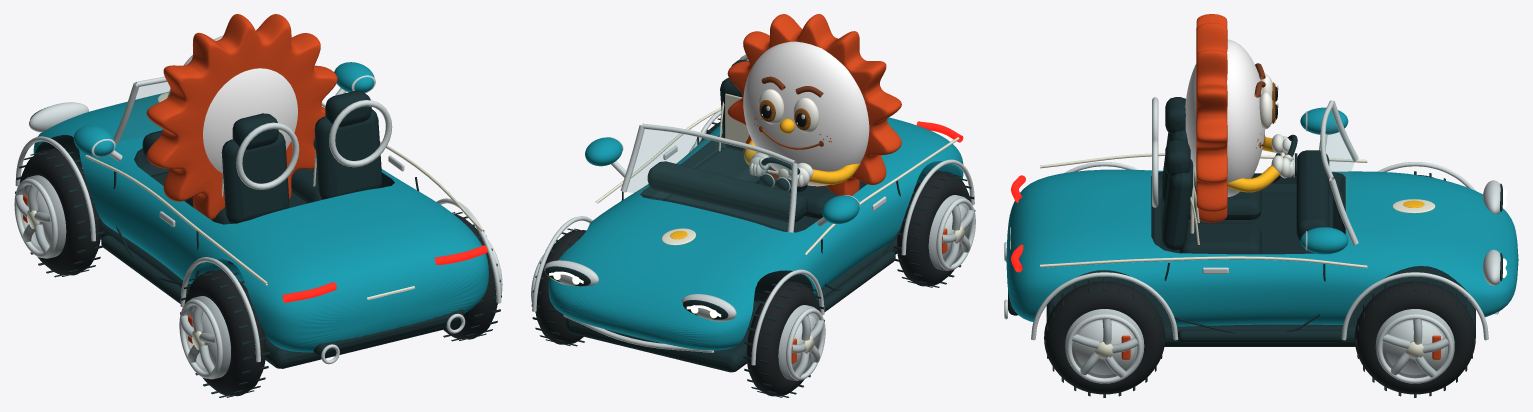
File: sunny-roadster-v4.glb
The picture shows the model from 3 angles, left to right: view 1: azimuth 30°, elevation 25°; view 2: azimuth 150°, elevation 25°; view 3: azimuth 270°, elevation 25°; orthographic projection. The views are drawn at different scales.
Visible parts, largest first — view 1: Continuous sculpted body shell, Organic fourteen ray corona, Sculpted Sunny body, Rounded performance tire.001, Rounded performance tire, Sport seat back, Sport seat back.001, Dark chassis, Rear diffuser, Rounded performance tire.003, Curved transparent windshield, Side skirt (+22 smaller); view 2: Continuous sculpted body shell, Sculpted Sunny body, Curved transparent windshield, Organic fourteen ray corona, Dashboard, Rounded performance tire, Rounded performance tire.001, Dark chassis, Rounded performance tire.002, Cockpit carpet, Sport seat cushion.001, Side skirt (+25 smaller); view 3: Continuous sculpted body shell, Organic fourteen ray corona, Rounded performance tire.002, Rounded performance tire.003, Sculpted Sunny body, Dark chassis, Cockpit carpet, Dashboard, Sport seat cushion.001, Side skirt.001, Sport seat back.001, Curved transparent windshield (+22 smaller).
Part boxes in pixels (bbox=[...]): Continuous sculpted body shell: bbox=[33, 92, 488, 352]; Organic fourteen ray corona: bbox=[146, 14, 337, 219]; Sculpted Sunny body: bbox=[167, 35, 297, 173]; Rounded performance tire.001: bbox=[184, 270, 265, 396]; Rounded performance tire: bbox=[19, 149, 100, 275]; Sport seat back: bbox=[221, 131, 289, 223]; Sport seat back.001: bbox=[314, 109, 382, 199]; Dark chassis: bbox=[100, 219, 461, 368]; Rear diffuser: bbox=[313, 309, 463, 355]; Rounded performance tire.003: bbox=[443, 214, 497, 339]; Curved transparent windshield: bbox=[120, 82, 169, 140]; Side skirt: bbox=[101, 235, 187, 303]; Continuous sculpted body shell: bbox=[548, 117, 963, 350]; Sculpted Sunny body: bbox=[743, 41, 869, 186]; Curved transparent windshield: bbox=[627, 129, 790, 230]; Organic fourteen ray corona: bbox=[727, 14, 901, 196]; Dashboard: bbox=[647, 161, 807, 222]; Rounded performance tire: bbox=[746, 281, 820, 396]; Rounded performance tire.001: bbox=[897, 171, 971, 286]; Dark chassis: bbox=[566, 237, 897, 372]; Rounded performance tire.002: bbox=[535, 230, 586, 344]; Cockpit carpet: bbox=[662, 179, 865, 232]; Sport seat cushion.001: bbox=[694, 147, 769, 183]; Side skirt: bbox=[817, 250, 895, 311]; Continuous sculpted body shell: bbox=[1006, 169, 1518, 326]; Organic fourteen ray corona: bbox=[1196, 14, 1227, 222]; Rounded performance tire.002: bbox=[1354, 281, 1475, 394]; Rounded performance tire.003: bbox=[1044, 281, 1165, 394]; Sculpted Sunny body: bbox=[1185, 39, 1264, 197]; Dark chassis: bbox=[1046, 266, 1475, 346]; Cockpit carpet: bbox=[1161, 192, 1332, 254]; Dashboard: bbox=[1296, 150, 1329, 240]; Sport seat cushion.001: bbox=[1179, 222, 1261, 254]; Side skirt.001: bbox=[1178, 329, 1343, 342]; Sport seat back.001: bbox=[1162, 159, 1193, 250]; Curved transparent windshield: bbox=[1326, 108, 1354, 215].
Size of the model in its own units: 2.52 by 2.6 by 4.07.
